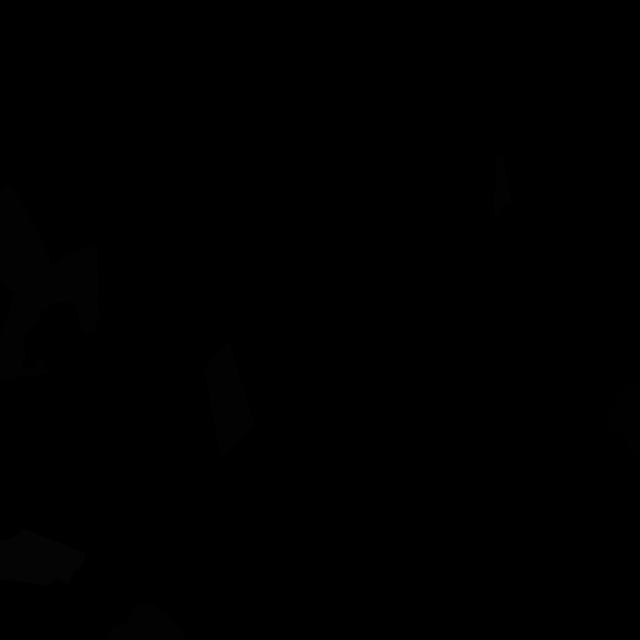cardboard: (0, 185, 100, 380), (204, 342, 255, 460), (104, 602, 186, 640), (492, 154, 512, 216)
rigid_plastic: (604, 364, 640, 455)
soft_plastic: (0, 528, 86, 586)
